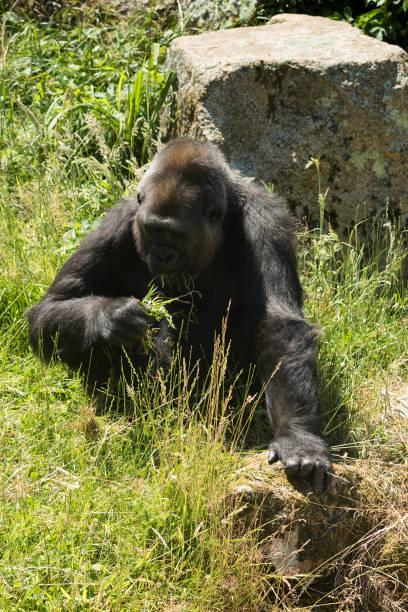gorille_Autres: (5, 134, 382, 582)
